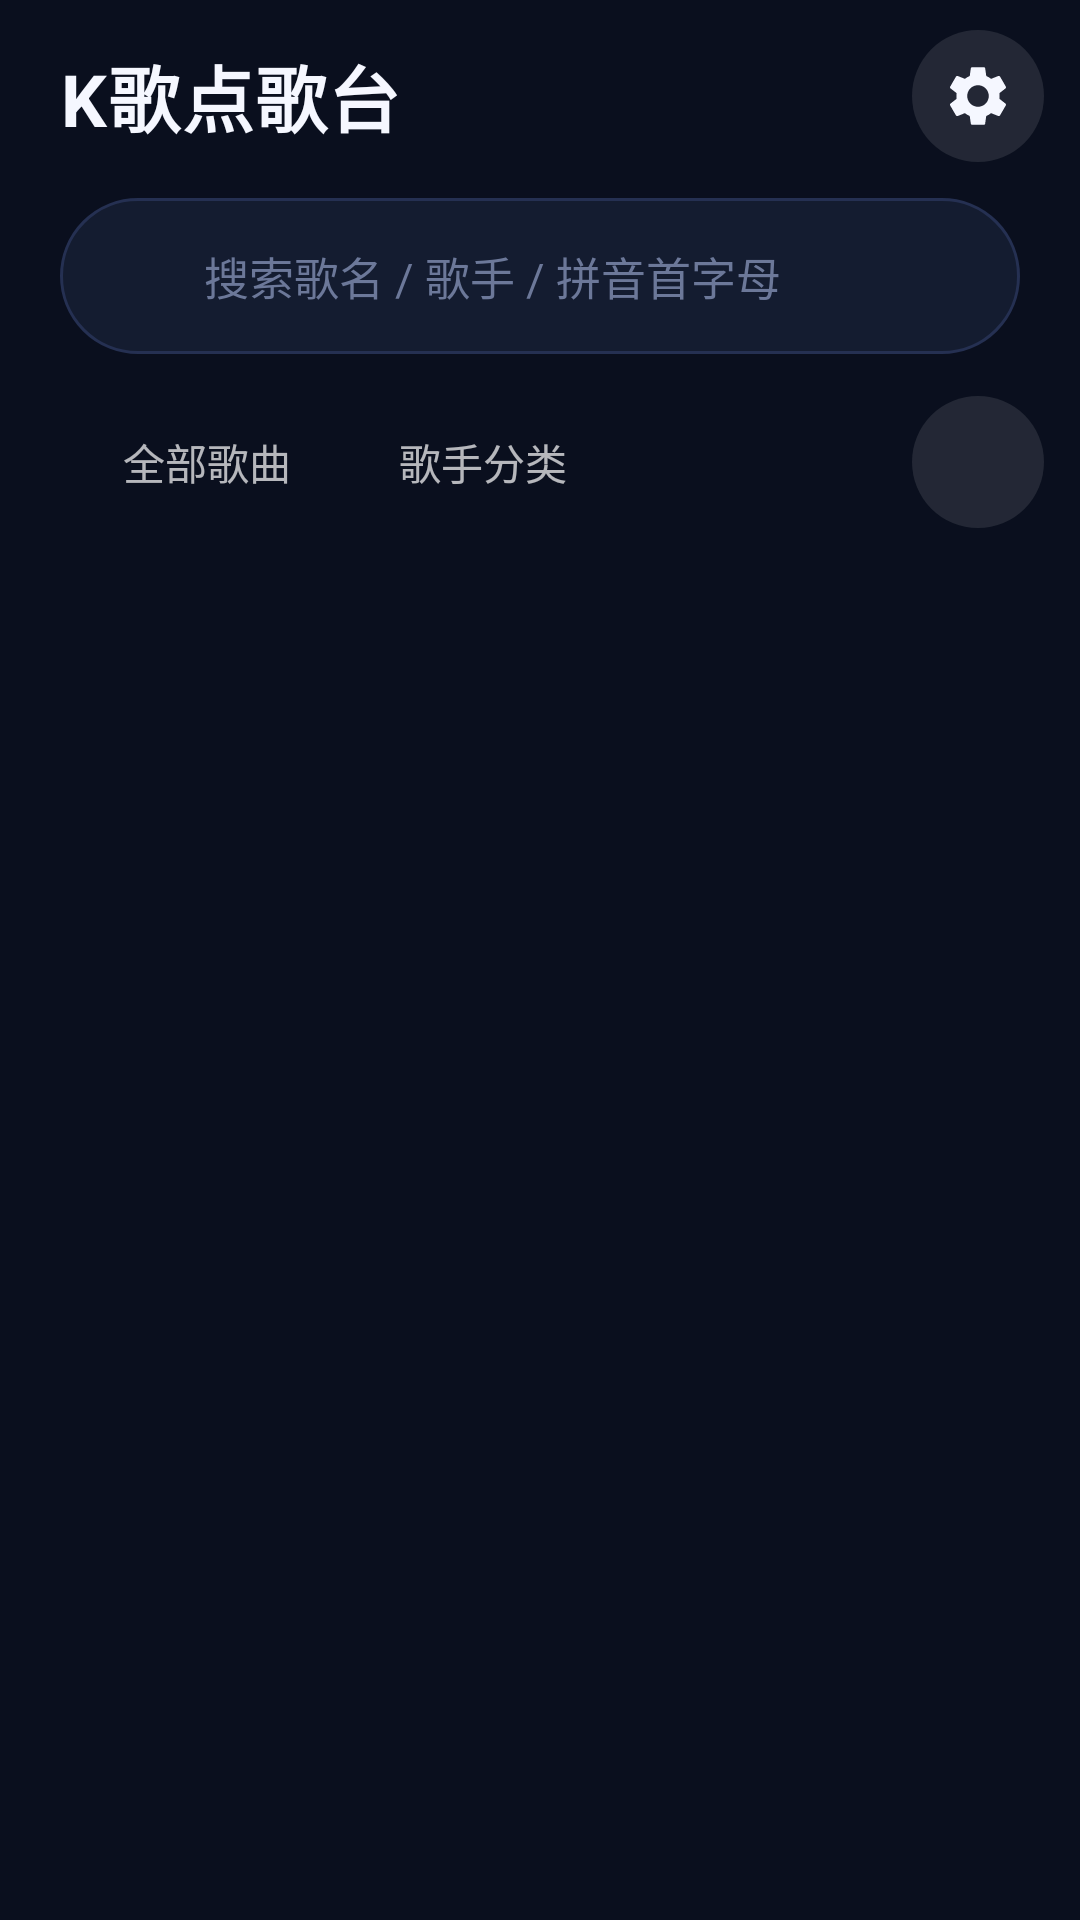

Screen size 1080 x 1920. Icon name, then its center in pixels as point (x, y):
设置: point (978, 96)
